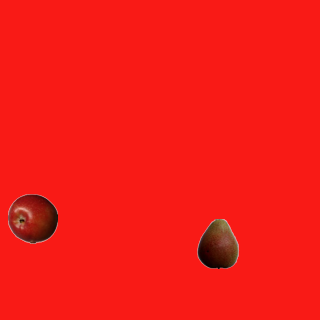Apple Braeburn: (7, 193, 57, 243)
Pear Forelle: (192, 218, 242, 268)
